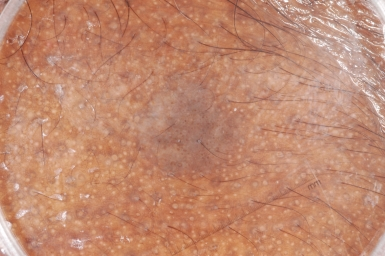seborrheic keratosis: (131, 67, 236, 174)
